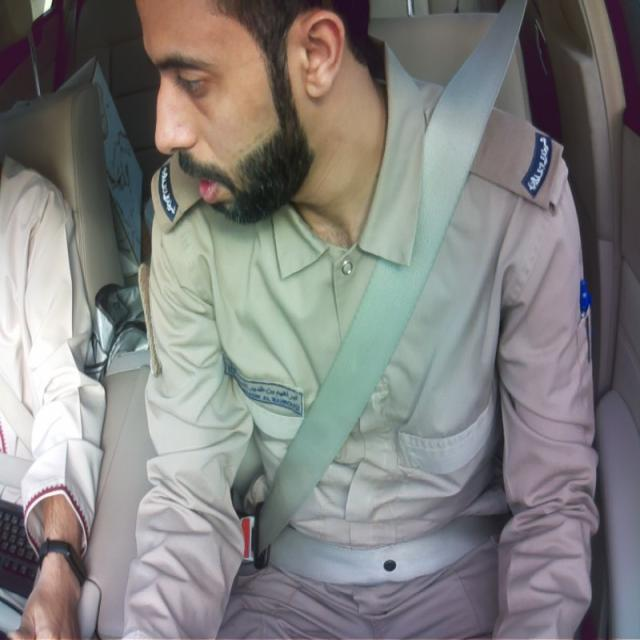seatbelt: (254, 0, 525, 584)
